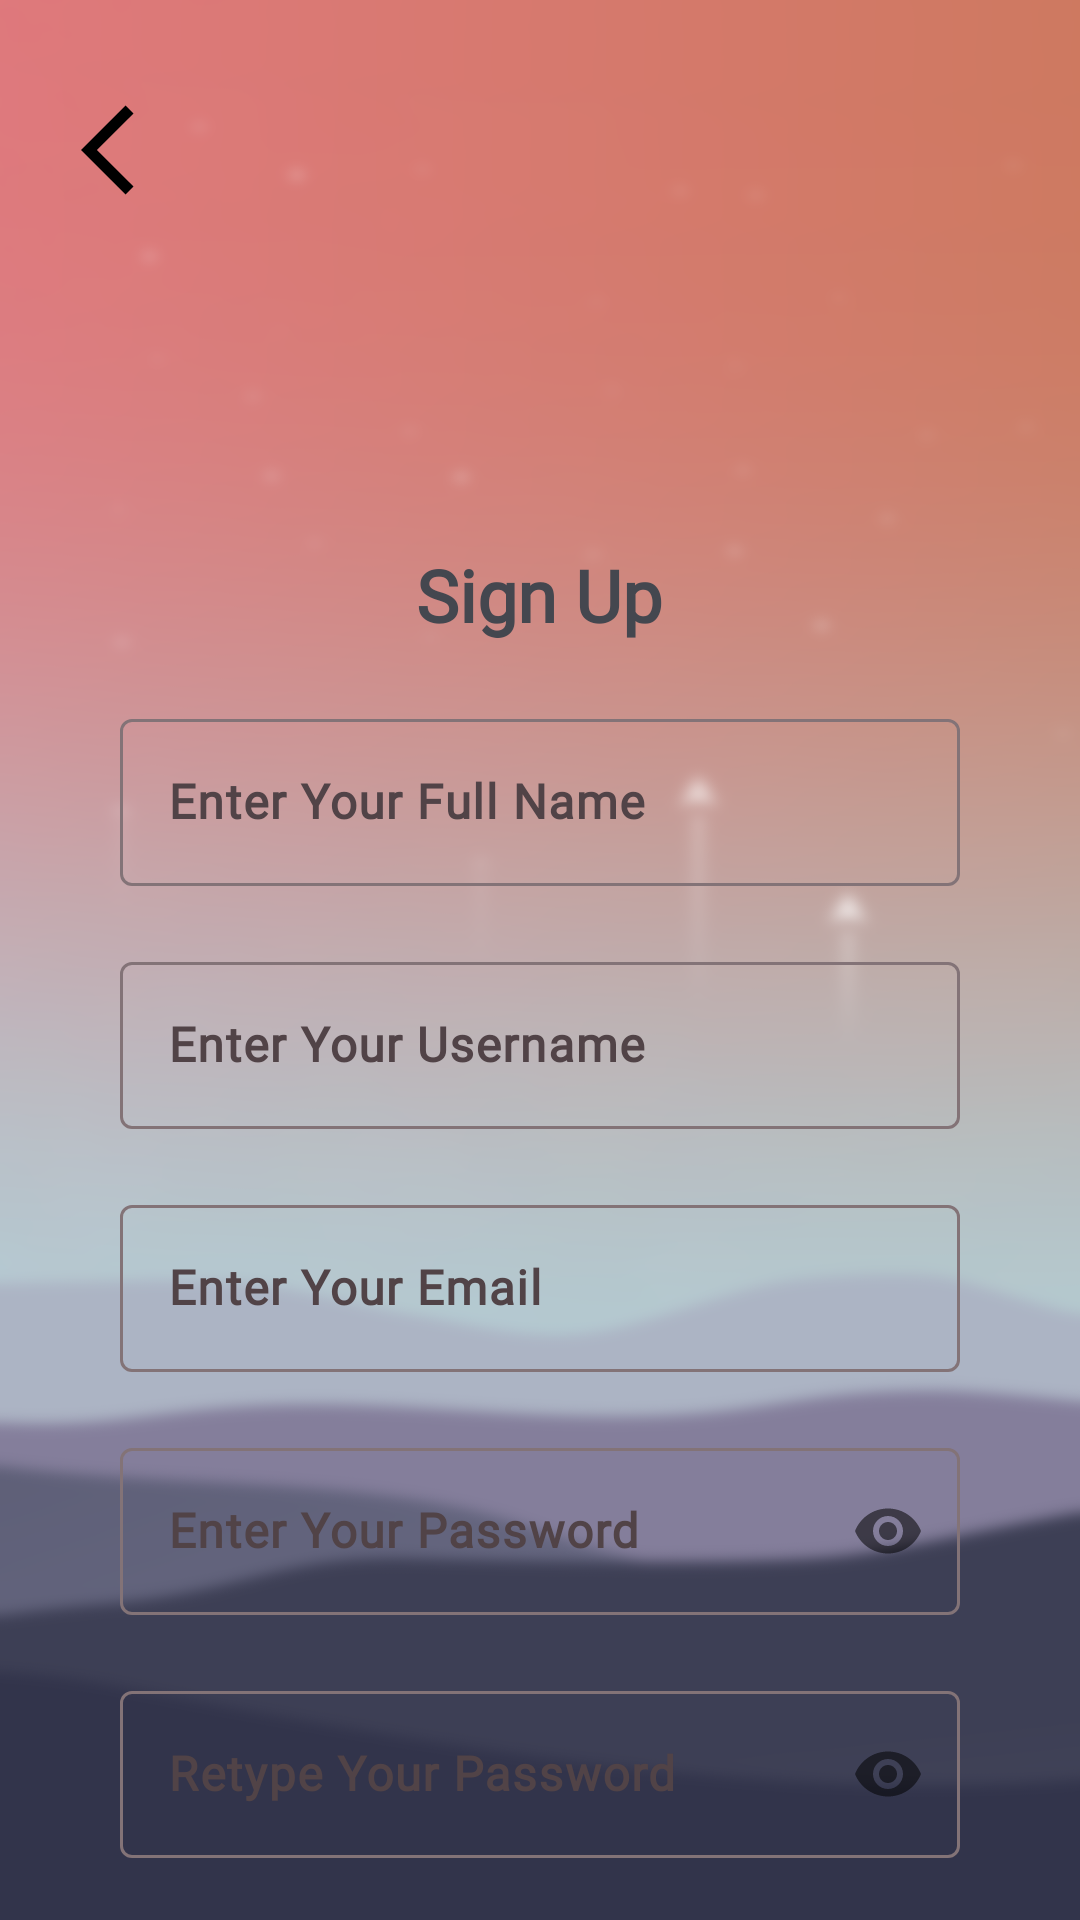

Icons on this 1080*1920 Android screen, each with the point to tap as [x,y]:
arrow back: [107,150]
